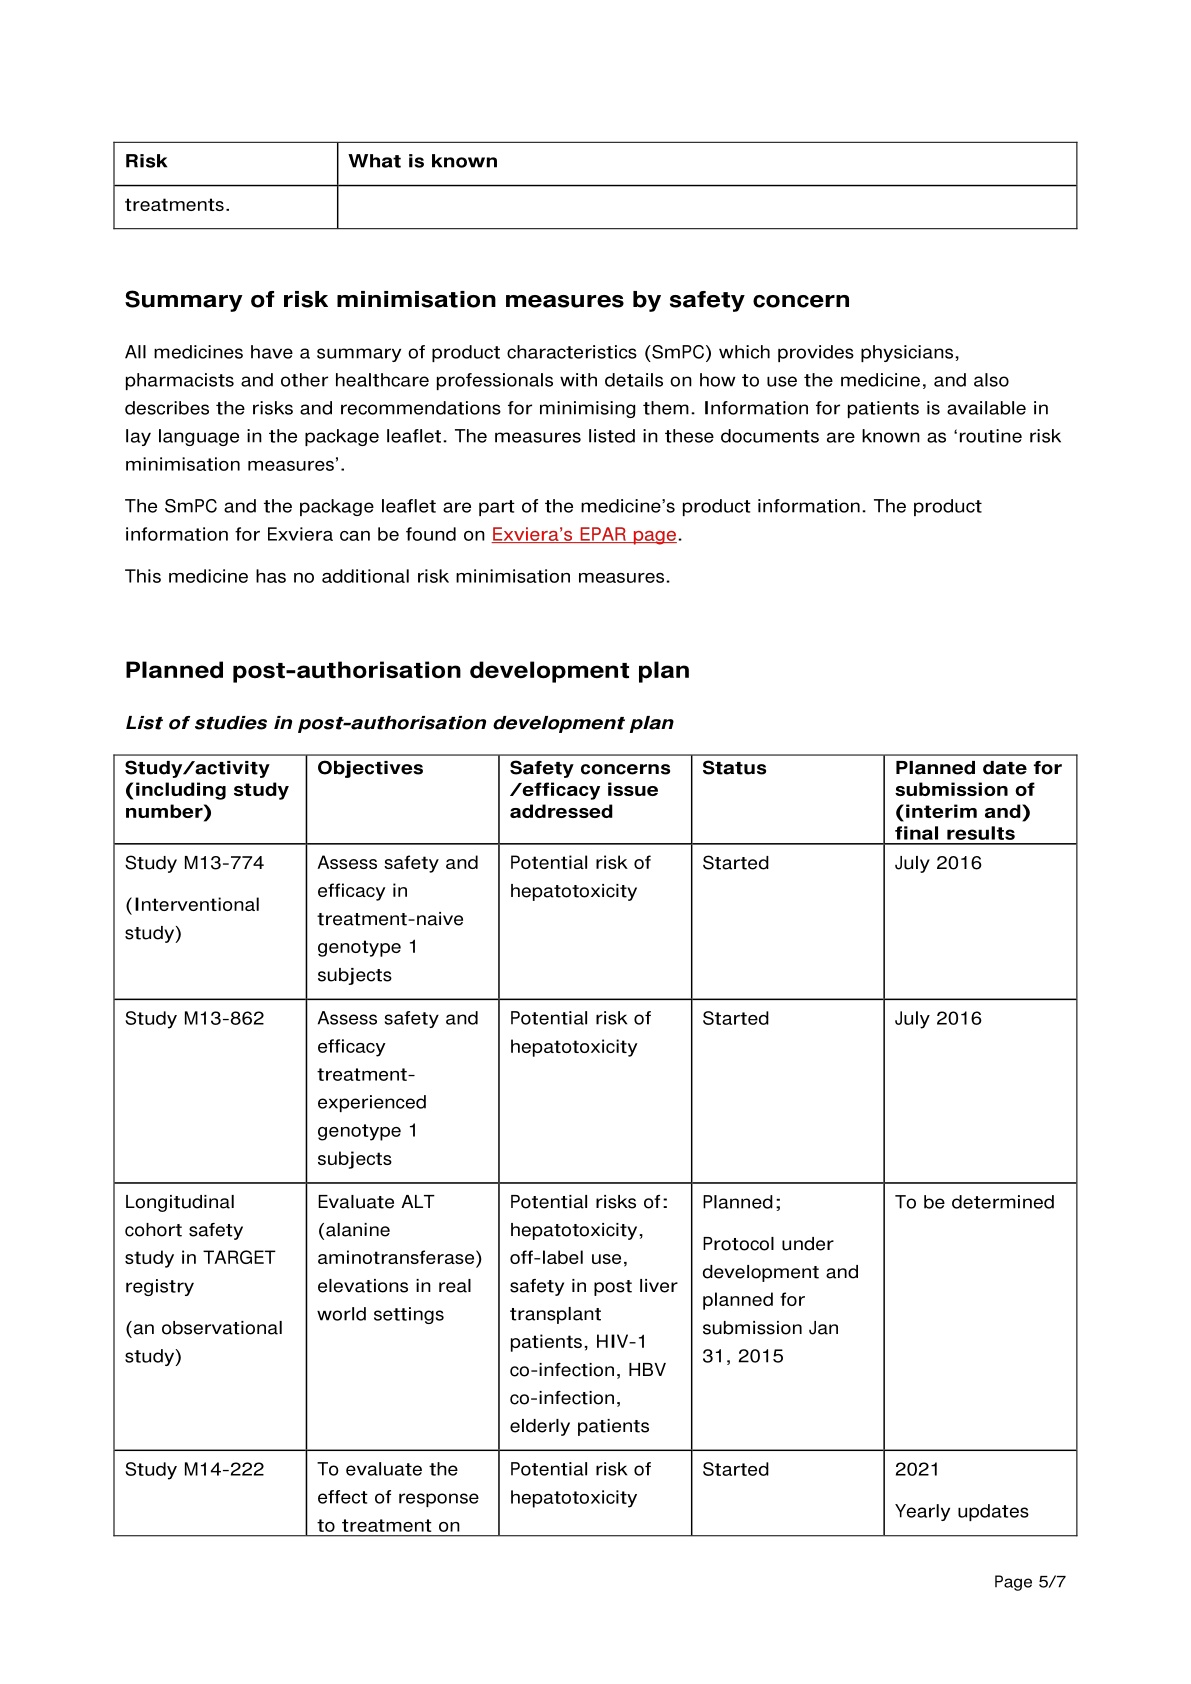full_lined: (113, 752, 1079, 1538), (113, 140, 1078, 231)
